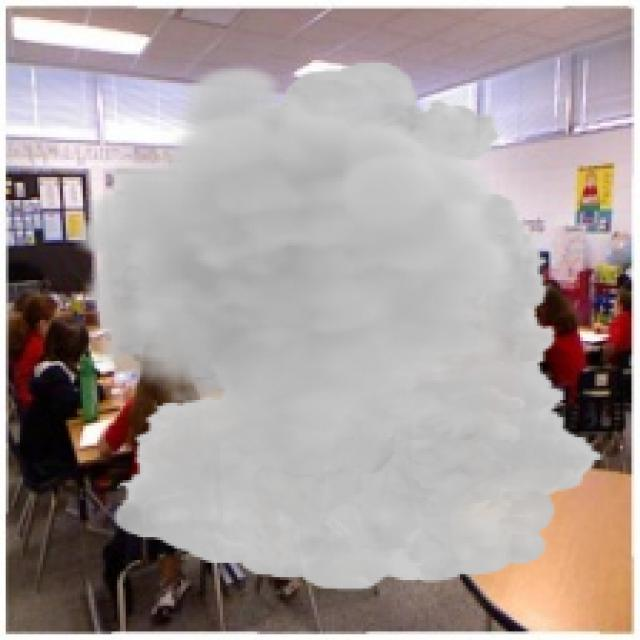smoke: (71, 60, 606, 591)
